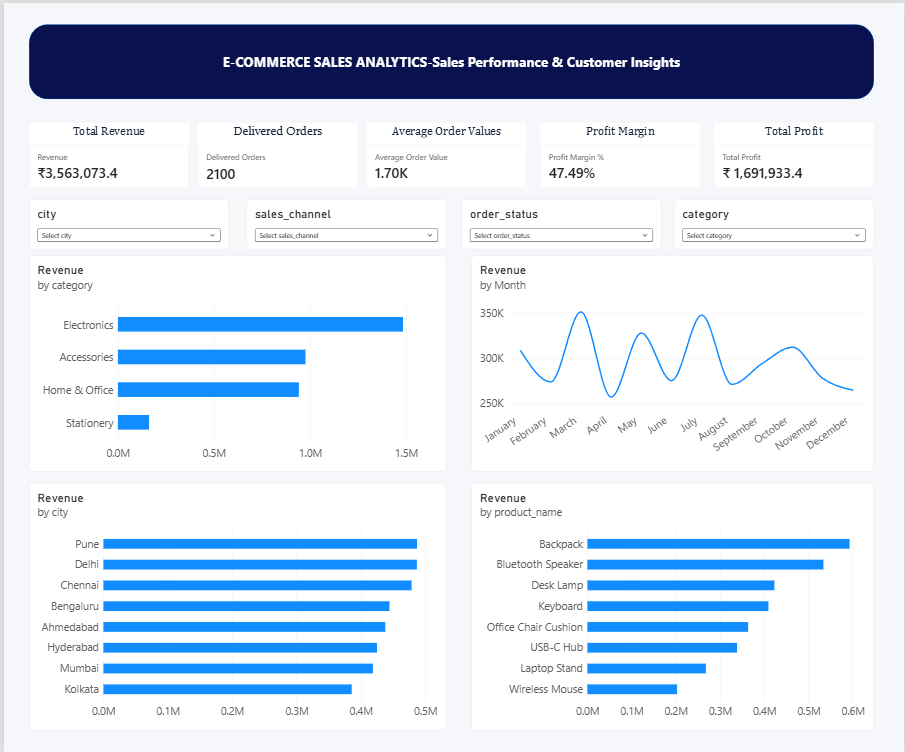

What the dashboard file says about the page in this screenshot:
{"tool":"powerbi","page":{"name":"Page 1","canvas":[1800,1500],"ordinal":0},"visuals":[{"type":"cardVisual","title":"Total Revenue","fields":{"Data":["Orders.Revenue"]},"box":[50,240,320,130],"z":0},{"type":"cardVisual","title":"Delivered Orders","fields":{"Data":["Orders.Delivered Orders"]},"box":[388,240,320,130],"z":1000},{"type":"cardVisual","title":"Average Order Values","fields":{"Data":["Orders.Average Order Value"]},"box":[724,240,320,130],"z":2000},{"type":"cardVisual","title":"Profit Margin","fields":{"Data":["Orders.Profit Margin %"]},"box":[1072,240,320,130],"z":3000},{"type":"cardVisual","title":"Total Profit","fields":{"Data":["Orders.Total Profit"]},"box":[1420,240,320,130],"z":4000},{"type":"lineChart","fields":{"Category":["Orders.order_month.Variation.Date Hierarchy.Month"],"Y":["Orders.Revenue"]},"box":[936,506,804,432],"z":5000},{"type":"clusteredBarChart","fields":{"Category":["Orders.category"],"Y":["Orders.Revenue"]},"box":[50,506,834,432],"z":6000},{"type":"barChart","fields":{"Category":["Orders.city"],"Y":["Orders.Revenue"]},"box":[50,960,834,494],"z":7000},{"type":"barChart","fields":{"Category":["Orders.product_name"],"Y":["Orders.Revenue"]},"box":[936,960,804,494],"z":8000},{"type":"listSlicer","fields":{"Values":["Orders.city"]},"box":[50,392,400,100],"z":9000},{"type":"listSlicer","fields":{"Values":["Orders.category"]},"box":[1340,392,400,100],"z":10000},{"type":"listSlicer","fields":{"Values":["Orders.sales_channel"]},"box":[484,392,400,100],"z":11000},{"type":"listSlicer","fields":{"Values":["Orders.order_status"]},"box":[914,392,400,100],"z":12000},{"type":"shape","box":[50,42,1690,150],"z":12001}]}

Visuals, with their boxes in screenshot pixels (x1, y1, x2, y2), scaled from the page's 1800x1500 canvas onto the 905x752 screenshot:
"Total Revenue" cardVisual: locate(25, 120, 186, 185)
"Delivered Orders" cardVisual: locate(195, 120, 356, 185)
"Average Order Values" cardVisual: locate(364, 120, 525, 185)
"Profit Margin" cardVisual: locate(539, 120, 700, 185)
"Total Profit" cardVisual: locate(714, 120, 875, 185)
lineChart - Orders.order_month.Variation.Date Hierarchy.Month x Orders.Revenue: locate(471, 254, 875, 470)
clusteredBarChart - Orders.category x Orders.Revenue: locate(25, 254, 444, 470)
barChart - Orders.city x Orders.Revenue: locate(25, 481, 444, 729)
barChart - Orders.product_name x Orders.Revenue: locate(471, 481, 875, 729)
listSlicer - Orders.city: locate(25, 197, 226, 247)
listSlicer - Orders.category: locate(674, 197, 875, 247)
listSlicer - Orders.sales_channel: locate(243, 197, 444, 247)
listSlicer - Orders.order_status: locate(460, 197, 661, 247)
shape: locate(25, 21, 875, 96)
